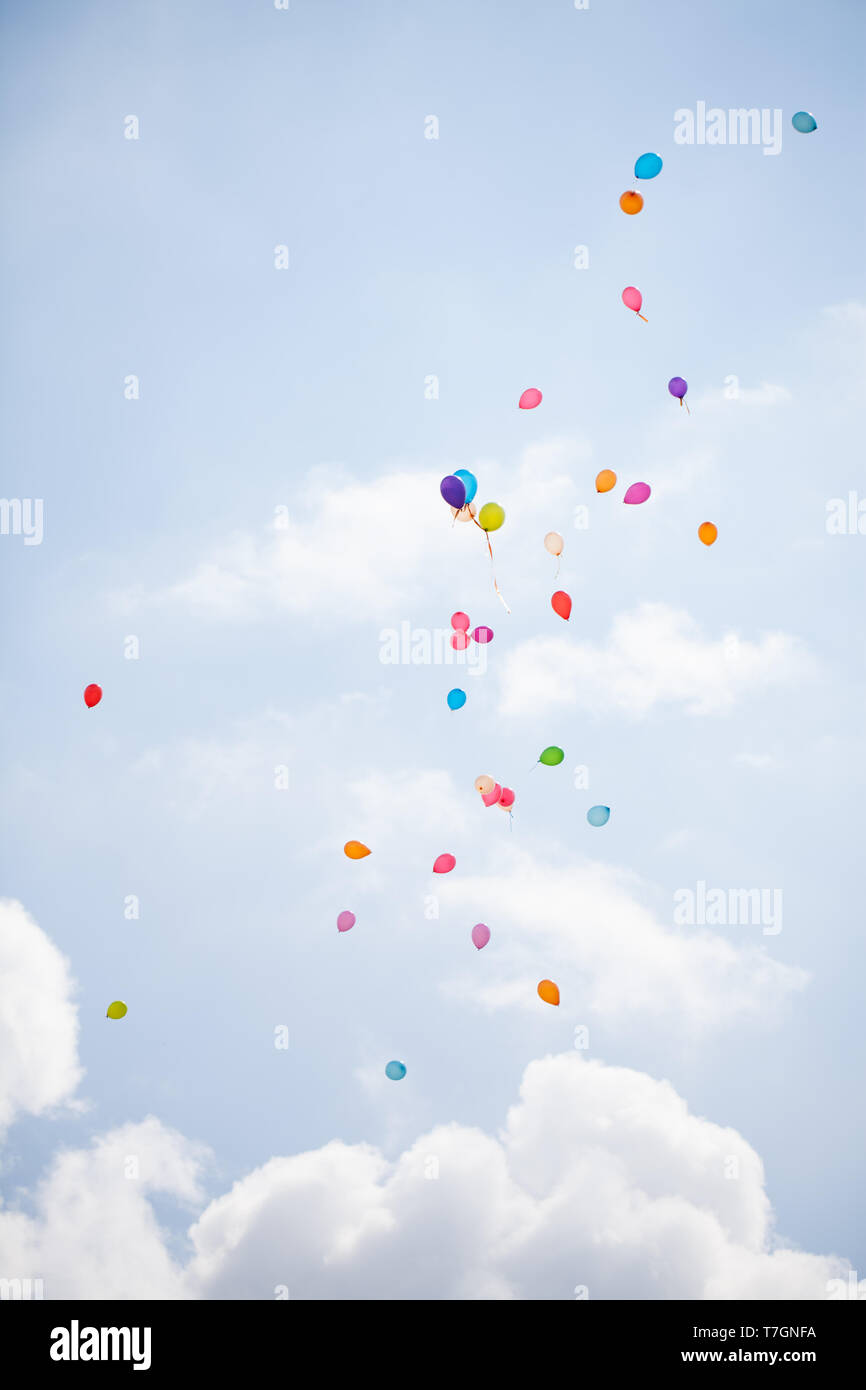Balloon: (441, 475, 466, 508), (634, 153, 662, 179), (479, 502, 504, 530), (537, 979, 561, 1006), (619, 190, 644, 215), (623, 482, 651, 504), (792, 111, 818, 134), (551, 591, 571, 620), (621, 286, 643, 312), (585, 804, 611, 826), (344, 840, 372, 860), (518, 388, 543, 410), (697, 521, 719, 546), (538, 746, 565, 766), (432, 853, 457, 874), (471, 923, 491, 949), (83, 683, 103, 707), (544, 531, 563, 556), (668, 376, 689, 398), (596, 470, 616, 492), (446, 688, 466, 710), (106, 1000, 128, 1020), (385, 1060, 408, 1079), (337, 911, 356, 932), (470, 626, 493, 643), (474, 774, 495, 792), (451, 612, 470, 630), (450, 632, 470, 649), (498, 787, 514, 807)
